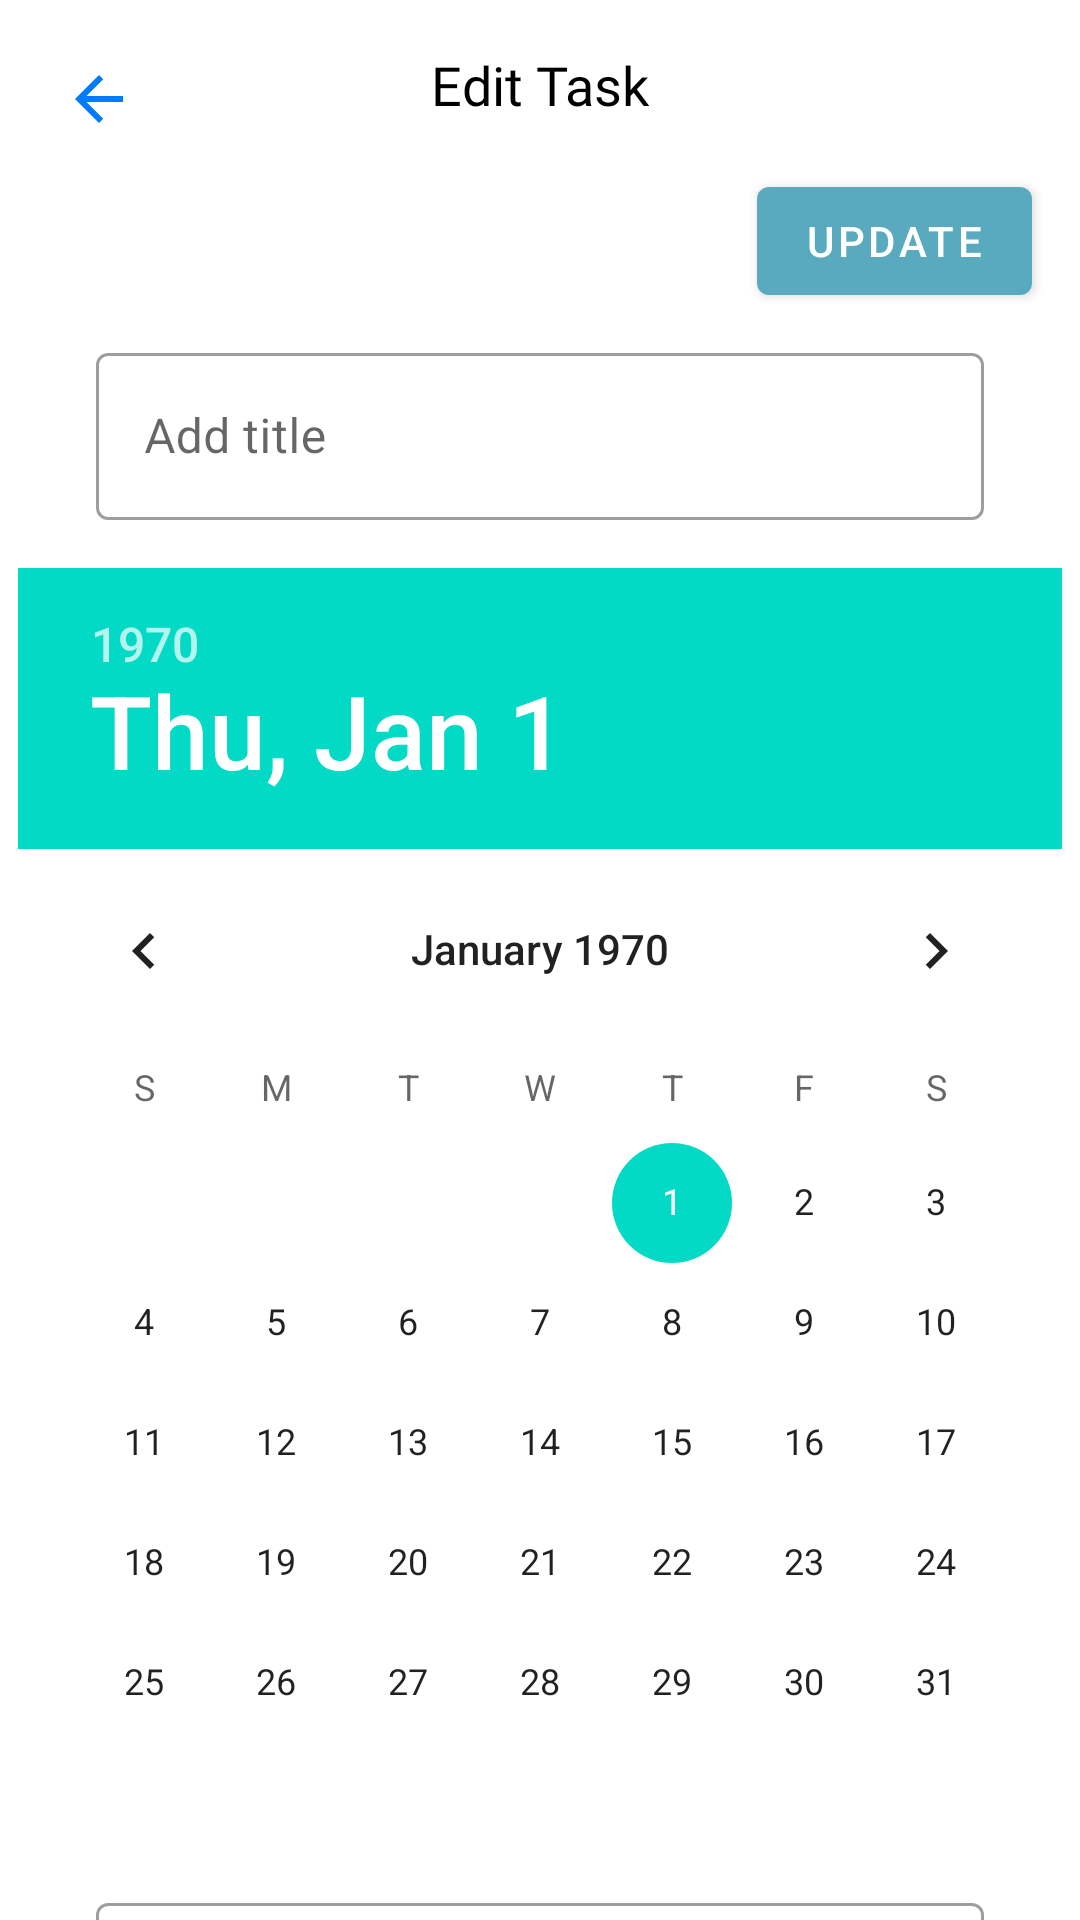

Named icons in this screenshot (1080px×1920px) and their centers, (x=x, y=y):
arrow back: (x=99, y=99)
